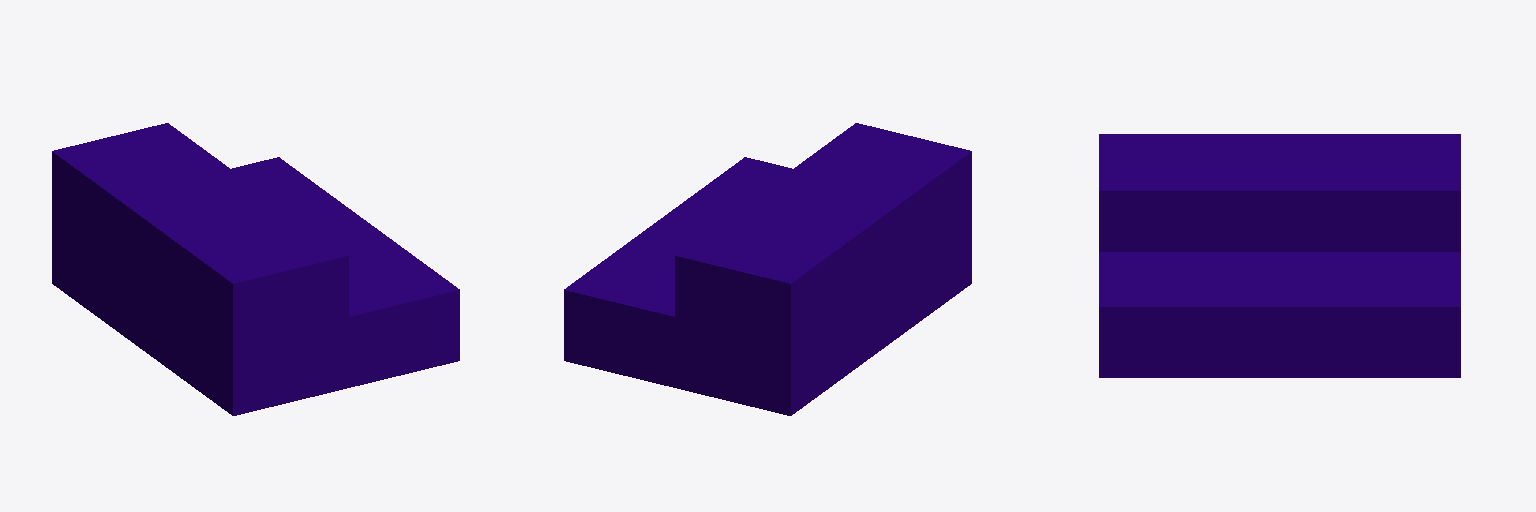
Rendered from Stairs.obj.
The picture shows the model from 3 angles: view 1: azimuth 30°, elevation 25°; view 2: azimuth 150°, elevation 25°; view 3: azimuth 270°, elevation 25°; orthographic projection.
Parts seen in each view (by area): view 1: Box001; view 2: Box001; view 3: Box001.
Boxes of the visible parts, <box> form: Box001: <box>52,123,459,415</box>; Box001: <box>564,123,971,415</box>; Box001: <box>1099,134,1460,377</box>.
Size of the model in its own units: 29.02 by 16.17 by 40.16.